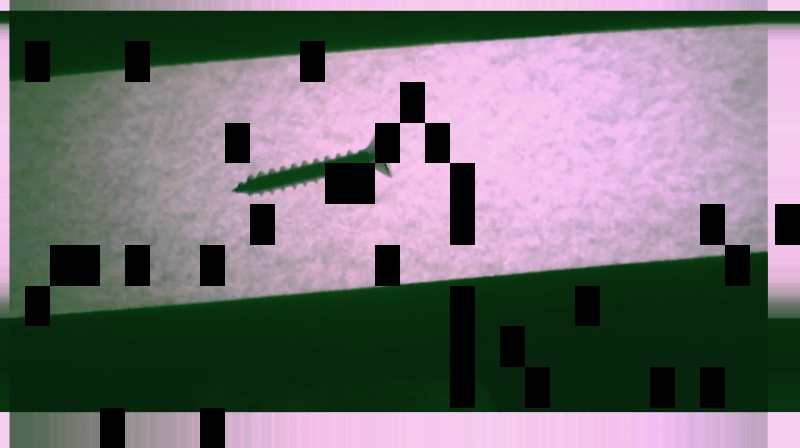S001: (226, 128, 395, 203)
